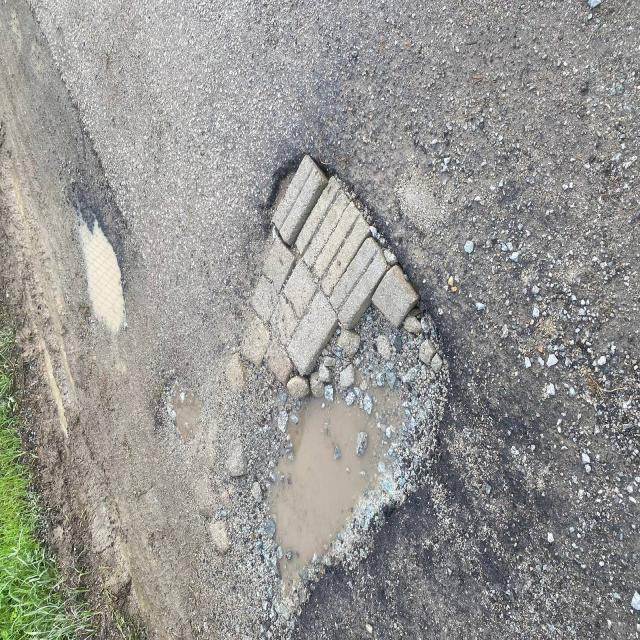pothole: (190, 145, 478, 630)
